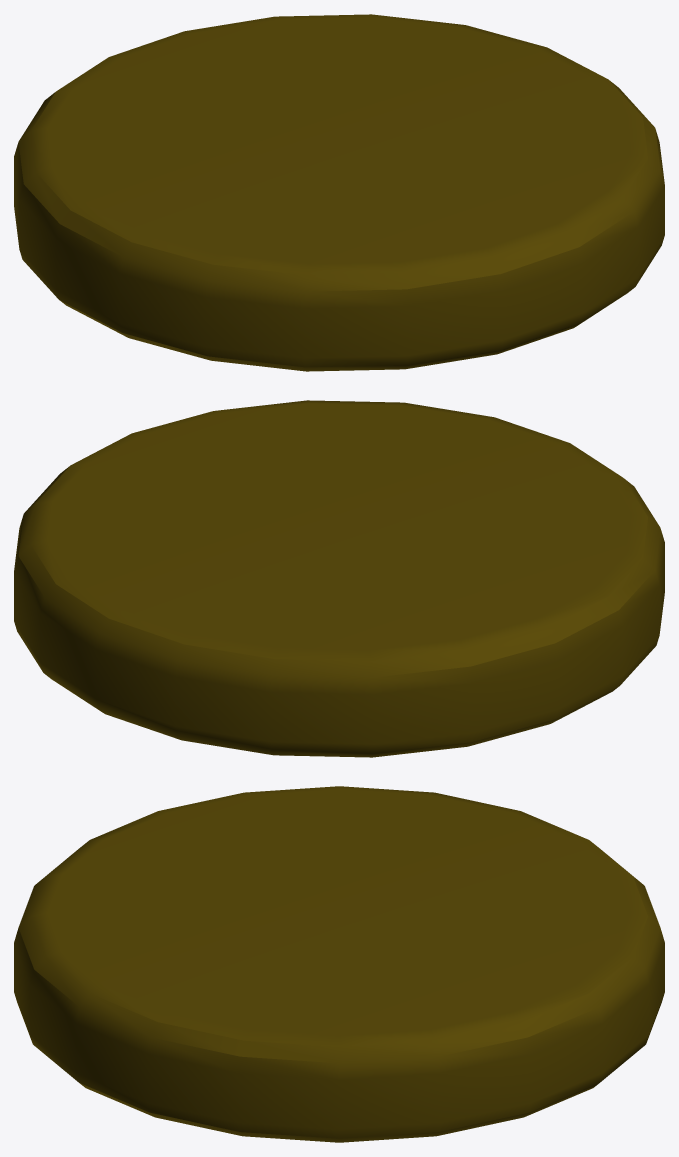
File: carne.fbx
3 renders of one model, top to bottom at view 1: azimuth 30°, elevation 25°; view 2: azimuth 150°, elevation 25°; view 3: azimuth 270°, elevation 25°, orthographic.
Visible parts, largest first — view 1: pCylinder9; view 2: pCylinder9; view 3: pCylinder9.
Boxes of the visible parts, x1,y1,x2,y2 form: pCylinder9: (14, 14, 664, 371); pCylinder9: (14, 400, 664, 757); pCylinder9: (14, 786, 664, 1142).
Size of the model in its own units: 0.655 by 0.1115 by 0.655.
